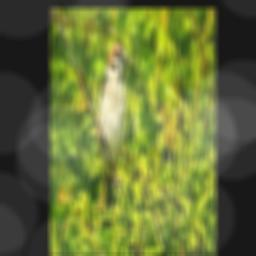Sparrow: (96, 43, 127, 229)
